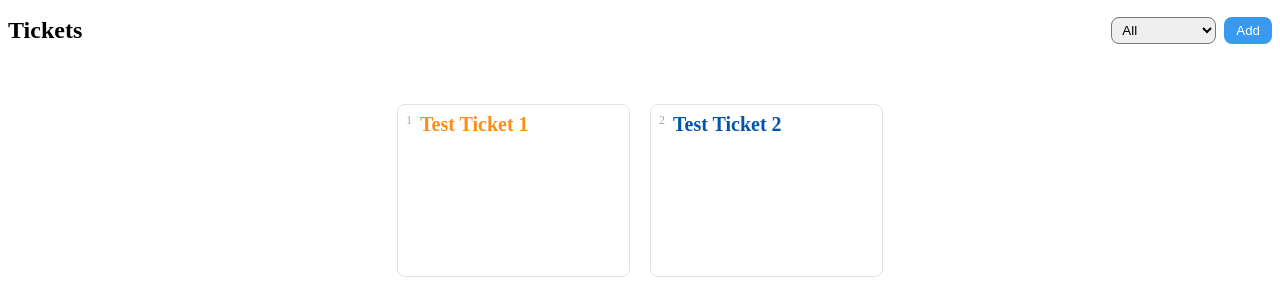
Test: Tickets Component › opens add ticket panel
Click the button "Add" at (1248, 30), box top-left (1224, 17), bottom-right (1272, 44)
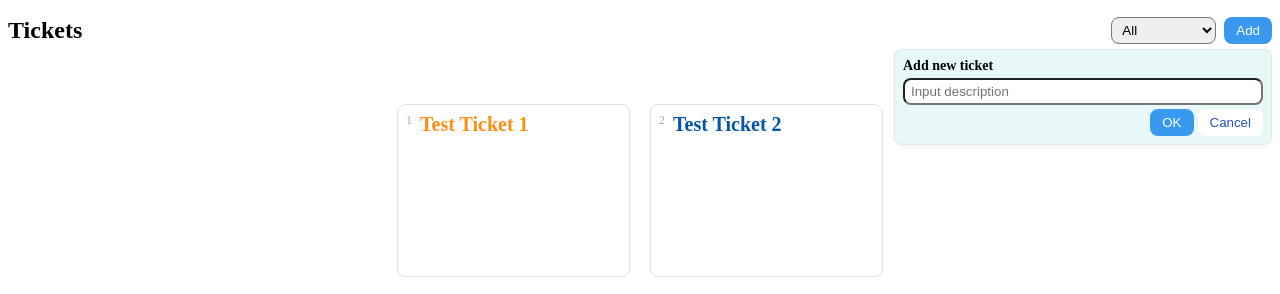
Check: the field with placeholder "Input description" is shown, box top-left (903, 78), bottom-right (1263, 105)
